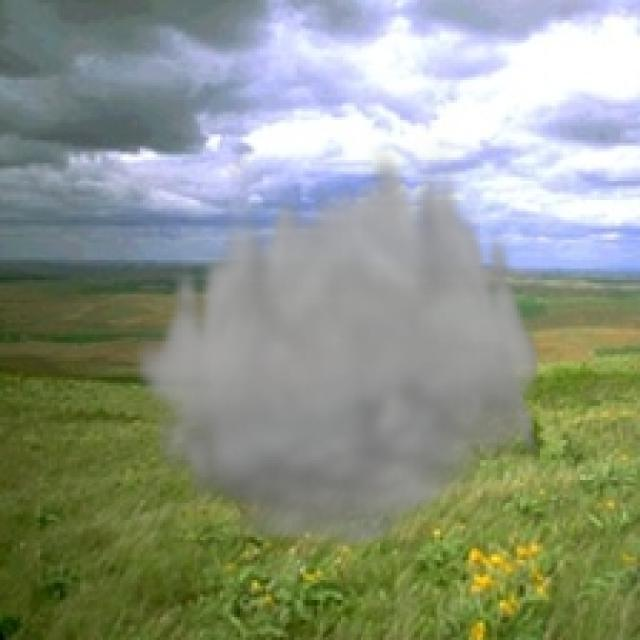Smoke: (128, 137, 546, 557)
